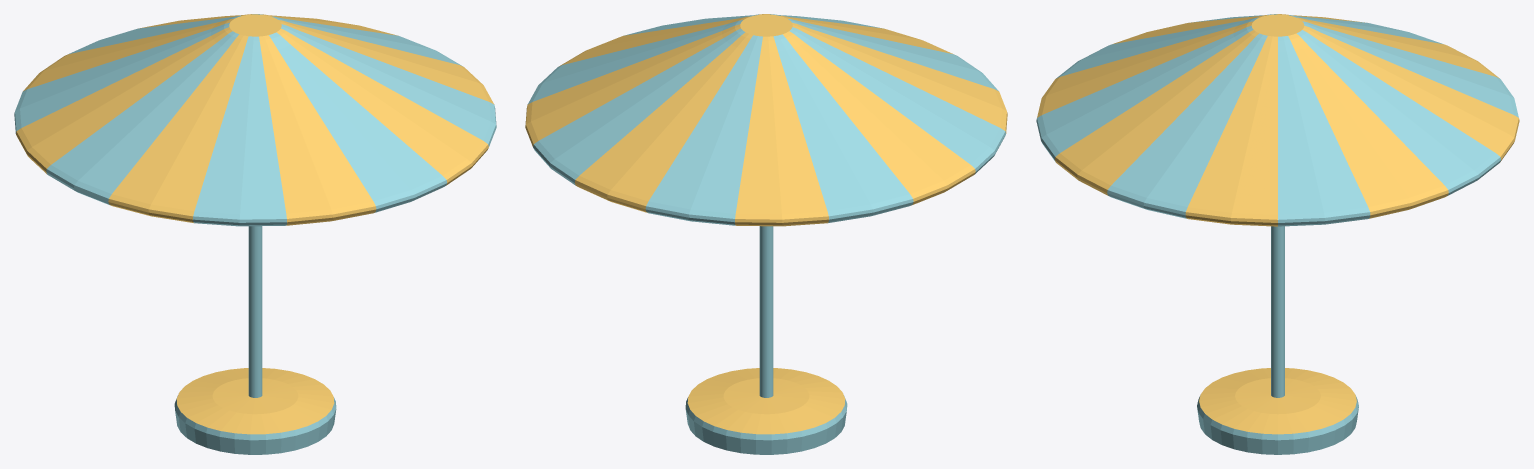
File: beach_umbrella_garden.fbx
The picture shows the model from 3 angles, left to right: view 1: azimuth 30°, elevation 25°; view 2: azimuth 150°, elevation 25°; view 3: azimuth 270°, elevation 25°; orthographic projection.
Visible parts, largest first — view 1: beach_umbrella_garden, Cylinder.032; view 2: beach_umbrella_garden, Cylinder.032; view 3: beach_umbrella_garden, Cylinder.032.
Part boxes in pixels (bbox=[...]): beach_umbrella_garden: bbox=[16, 14, 494, 434]; Cylinder.032: bbox=[14, 14, 496, 454]; beach_umbrella_garden: bbox=[525, 14, 1007, 434]; Cylinder.032: bbox=[527, 14, 1005, 454]; beach_umbrella_garden: bbox=[1037, 14, 1519, 434]; Cylinder.032: bbox=[1036, 14, 1518, 454].
Size of the model in its own units: 270 by 244 by 270.
